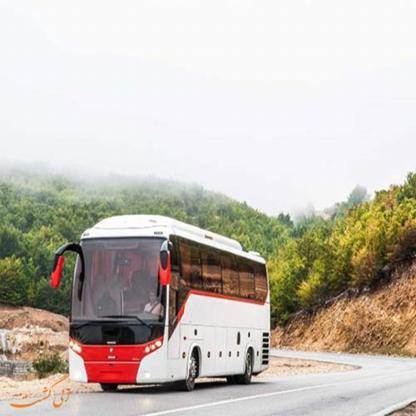Bus: (58, 211, 278, 393)
